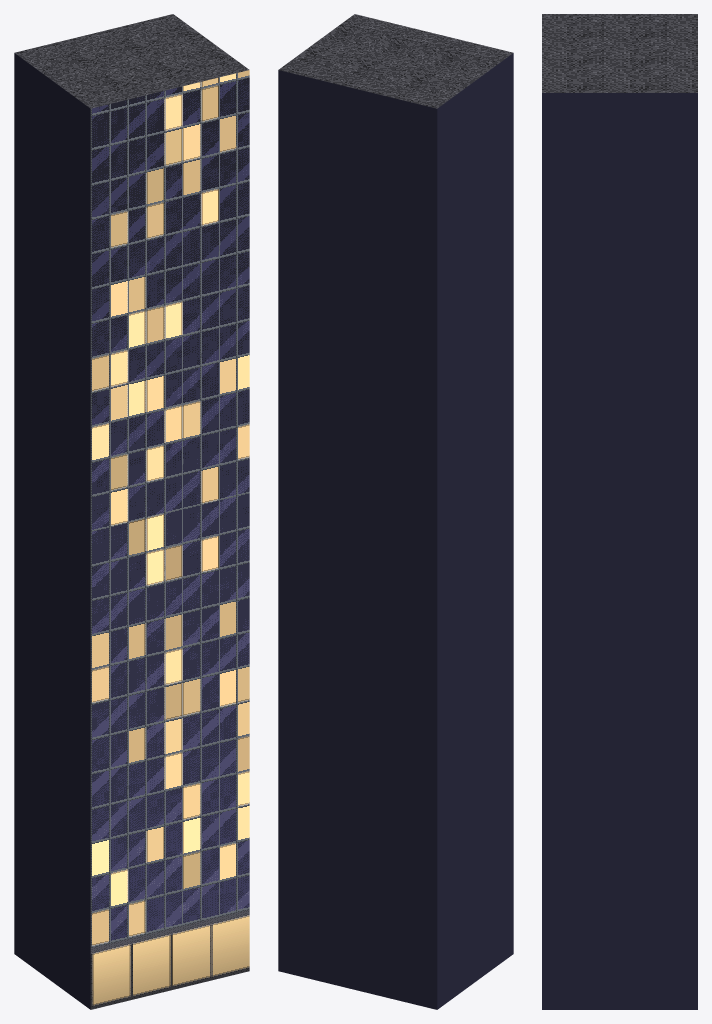
File: Kulisse_16.glb
The picture shows the model from 3 angles, left to right: view 1: azimuth 30°, elevation 25°; view 2: azimuth 150°, elevation 25°; view 3: azimuth 270°, elevation 25°; orthographic projection.
Parts seen in each view (by area): view 1: Kulisse_16; view 2: Kulisse_16; view 3: Kulisse_16.
Boxes of the visible parts, x1,y1,x2,y2 form: Kulisse_16: (14,14,249,1009); Kulisse_16: (278,14,513,1009); Kulisse_16: (542,14,697,1009).
Size of the model in its own units: 12 by 65 by 10.
3 materials, 2 textured.
